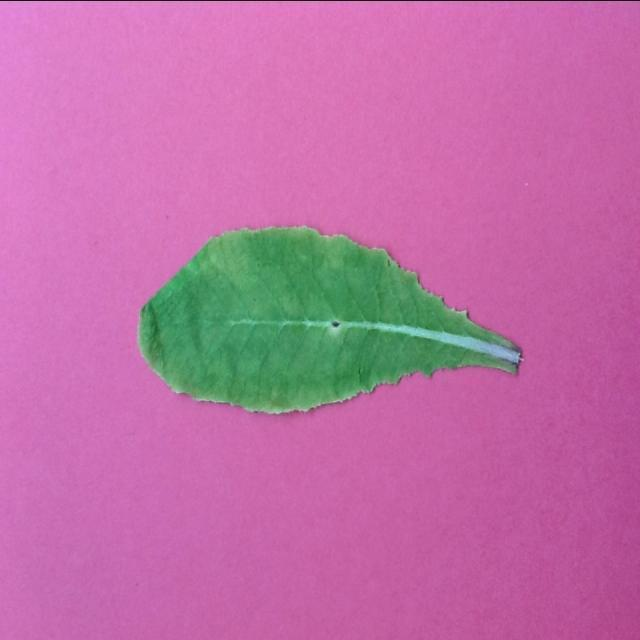foliage: (138, 226, 522, 410)
